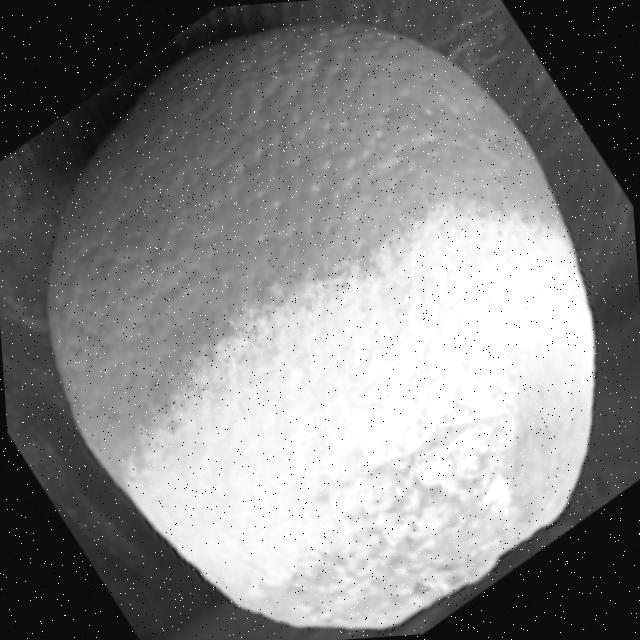Rotten: (31, 5, 612, 640)
